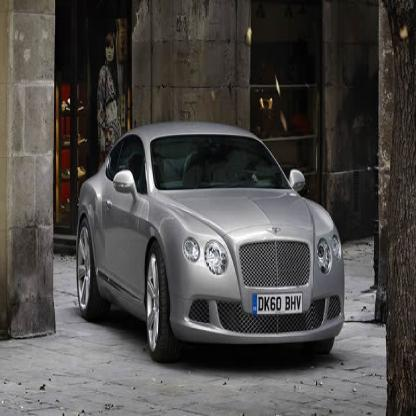Vehicle: (74, 116, 348, 370)
